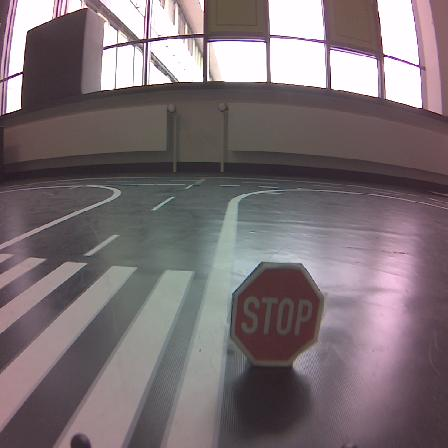STOP: (231, 263, 323, 365)
